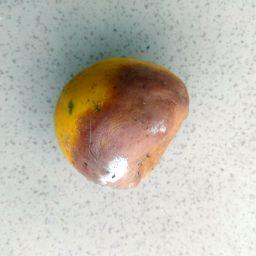orange: (53, 55, 192, 192)
